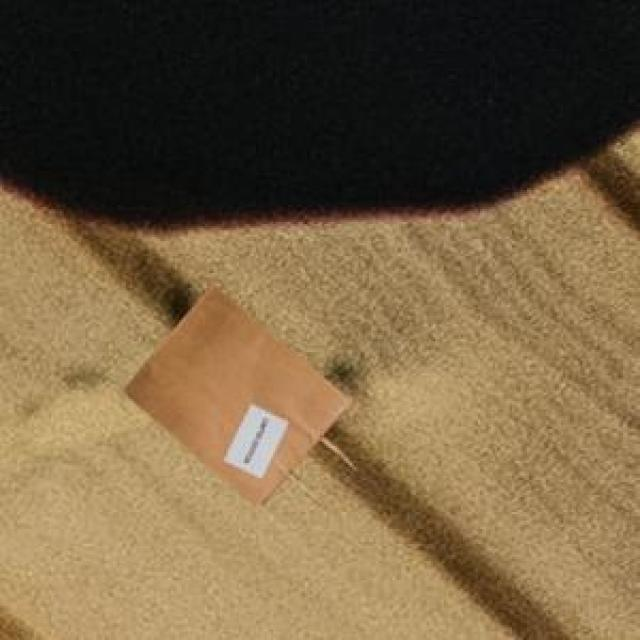paper: (122, 280, 346, 504)
